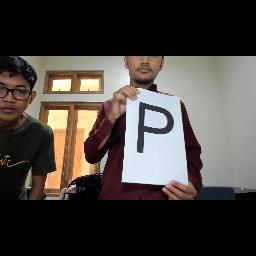p: (134, 100, 174, 162)
